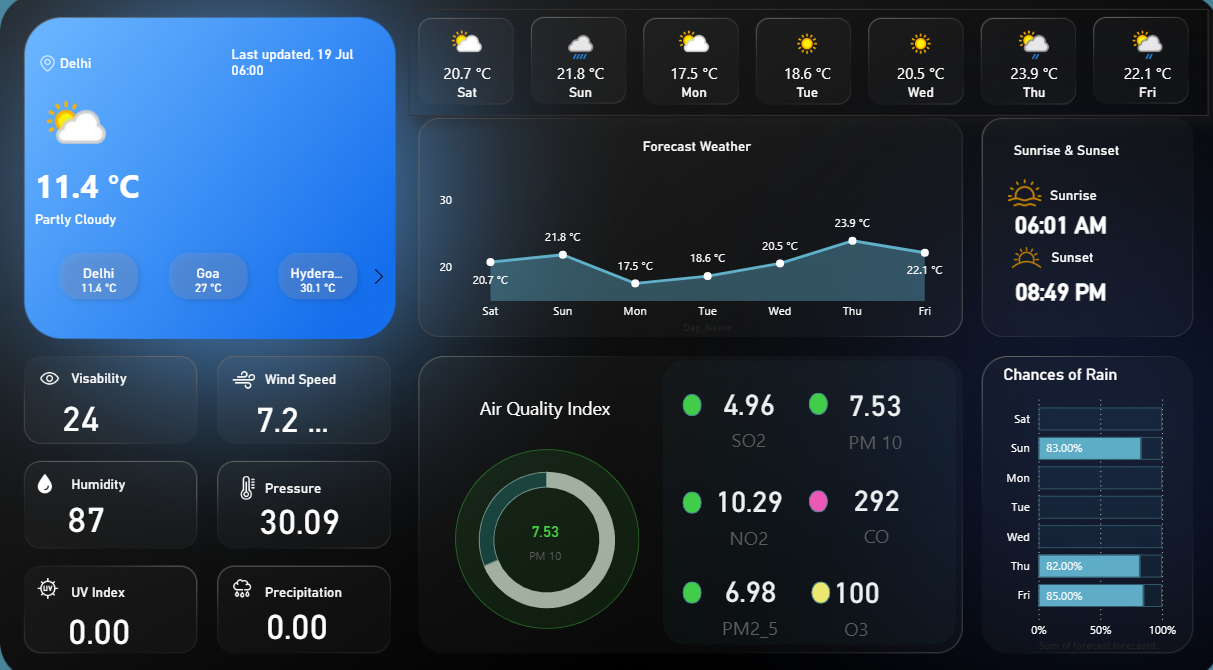

This screenshot's page, from the dashboard's own definition file:
{"tool":"powerbi","page":{"name":"Page 1","canvas":[1280,720],"ordinal":0},"visuals":[{"type":"donutChart","fields":{"Y":["Sum(Measure.current.air_quality.pm10)","Measure.left_valuePM10"]},"box":[452.1,478.4,243.1,188.9],"z":0},{"type":"shape","box":[476.8,476.8,193.5,188.9],"z":1000},{"type":"advancedSlicerVisual","fields":{"Values":["City.location.name"]},"box":[24.5,254,389,83.4],"z":2000},{"type":"card","fields":{"Values":["Sum(current.current.air_quality.pm10)"]},"box":[851.5,393.2,134.7,100.6],"z":3000},{"type":"shape","box":[36.2,174.7,127.3,49.9],"z":4000},{"type":"shape","box":[36.2,215.9,279.5,38.7],"z":5000},{"type":"shape","box":[62.4,52.4,127.3,38.7],"z":6000},{"type":"shape","box":[243.3,52.4,136,38.7],"z":7000},{"type":"image","box":[36.2,52.4,26.2,41.2],"z":8000},{"type":"cardVisual","fields":{"Data":["Min(current.current.condition.icon)"]},"box":[24.8,85.1,102.2,83.6],"z":9000},{"type":"image","box":[23.9,386.5,56.7,32.8],"z":10000},{"type":"shape","box":[74.6,389.5,135.8,26.9],"z":11000},{"type":"shape","box":[277.5,391,101.5,26.9],"z":12000},{"type":"shape","box":[277.5,501.4,101.5,34.3],"z":13000},{"type":"shape","box":[277.5,613.3,101.5,26.9],"z":14000},{"type":"shape","box":[74.6,501.4,101.5,26.9],"z":15000},{"type":"shape","box":[74.6,613.3,101.5,26.9],"z":16000},{"type":"image","box":[31.3,492.4,31.3,43.3],"z":17000},{"type":"image","box":[16.4,607.3,65.7,32.8],"z":18000},{"type":"image","box":[243.2,501.4,34.3,34.3],"z":19000},{"type":"image","box":[238.8,386.5,34.3,35.8],"z":20000},{"type":"image","box":[232.8,607.3,44.8,32.8],"z":21000},{"type":"card","fields":{"Values":["Sum(current.current.precip_in)"]},"box":[259.6,623.7,104.5,73.1],"z":22000},{"type":"card","fields":{"Values":["Sum(current.current.pressure_in)"]},"box":[240.2,519.3,149.2,62.7],"z":23000},{"type":"card","fields":{"Values":["Sum(current.current.humidity)"]},"box":[35.8,519.3,110.4,58.2],"z":24000},{"type":"card","fields":{"Values":["Sum(current.current.uv)"]},"box":[49.2,635.7,108.9,61.2],"z":25000},{"type":"card","fields":{"Values":["LastUpdated.Wind_speed"]},"box":[255.2,416.3,101.5,55.2],"z":26000},{"type":"card","fields":{"Values":["Sum(current.current.vis_km)"]},"box":[44.8,411.8,80.6,62.7],"z":27000},{"type":"advancedSlicerVisual","fields":{"Values":["forecast day.Day_Name"]},"box":[428.3,15.7,839.4,111.8],"z":28000},{"type":"areaChart","title":"Forecast Weather","fields":{"Category":["forecast day.Day_Name"],"Y":["Sum(forecast day.forecast.forecastday.day.avgtemp_c)"]},"box":[456.5,150.4,549.6,210.3],"z":29000},{"type":"shape","box":[1101.8,197.5,136.2,27],"z":30000},{"type":"card","fields":{"Values":["Min(forecast day.Sunrise_date)"]},"box":[1051.5,216,122.7,50.3],"z":31000},{"type":"image","box":[1051.5,250.3,50.3,51.5],"z":32000},{"type":"card","fields":{"Values":["Min(forecast day.Sunset_date)"]},"box":[1051.5,287.1,122.7,50.3],"z":33000},{"type":"shape","box":[1103.1,262.6,136.2,27],"z":34000},{"type":"shape","box":[1063.8,150.9,136.2,27],"z":35000},{"type":"image","box":[1047.9,186.5,54,45.4],"z":36000},{"type":"hundredPercentStackedBarChart","title":"Chances of Rain","fields":{"Category":["forecast day.Day_Name"],"Y":["Sum(forecast day.forecast.forecastday.day.daily_chance_of_rain)","current.left_value_rain"]},"box":[1047.7,389.3,191.6,305.6],"z":37000},{"type":"textbox","box":[498.5,411.8,147.1,44.9],"z":38000},{"type":"card","fields":{"Values":["Sum(current.current.air_quality.co)"]},"box":[853,487.7,134.7,109.9],"z":39000},{"type":"card","fields":{"Values":["Sum(current.current.air_quality.o3)"]},"box":[831.4,589.8,134.7,99.1],"z":40000},{"type":"card","fields":{"Values":["Sum(current.current.air_quality.so2)"]},"box":[718.3,390.1,134.7,105.3],"z":41000},{"type":"card","fields":{"Values":["Sum(current.current.air_quality.no2)"]},"box":[718.3,492.3,134.7,105.3],"z":42000},{"type":"card","fields":{"Values":["Sum(current.current.air_quality.pm2_5)"]},"box":[719.9,588.3,134.7,102.2],"z":43000},{"type":"shape","box":[716.8,521.7,20.1,23.2],"z":44000},{"type":"shape","box":[716.8,616.2,20.1,23.2],"z":45000},{"type":"shape","box":[848.4,418,20.1,23.2],"z":46000},{"type":"shape","box":[848.4,520.2,20.1,23.2],"z":47000},{"type":"shape","box":[851.5,616.2,20.1,23.2],"z":48000},{"type":"shape","box":[716.8,419.5,20.1,23.2],"z":49000},{"type":"card","fields":{"Values":["Sum(current.current.air_quality.pm10)"]},"box":[504.7,520.2,134.7,105.3],"z":50000},{"type":"shape","box":[695.1,383.9,308.1,298.8],"z":51000}]}

Visuals, with their boxes in screenshot pixels (x1, y1, x2, y2), scaled from the page's 1280x720 canvas onto the 1213x670 screenshot:
donutChart - Sum(Measure.current.air_quality.pm10) x Measure.left_valuePM10: bbox=(428, 445, 659, 621)
shape: bbox=(452, 444, 635, 619)
advancedSlicerVisual - City.location.name: bbox=(23, 236, 392, 314)
card - Sum(current.current.air_quality.pm10): bbox=(807, 366, 935, 460)
shape: bbox=(34, 163, 155, 209)
shape: bbox=(34, 201, 299, 237)
shape: bbox=(59, 49, 180, 85)
shape: bbox=(231, 49, 359, 85)
image: bbox=(34, 49, 59, 87)
cardVisual - Min(current.current.condition.icon): bbox=(24, 79, 120, 157)
image: bbox=(23, 360, 76, 390)
shape: bbox=(71, 362, 199, 387)
shape: bbox=(263, 364, 359, 389)
shape: bbox=(263, 467, 359, 498)
shape: bbox=(263, 571, 359, 596)
shape: bbox=(71, 467, 167, 492)
shape: bbox=(71, 571, 167, 596)
image: bbox=(30, 458, 59, 498)
image: bbox=(16, 565, 78, 596)
image: bbox=(230, 467, 263, 498)
image: bbox=(226, 360, 259, 393)
image: bbox=(221, 565, 263, 596)
card - Sum(current.current.precip_in): bbox=(246, 580, 345, 648)
card - Sum(current.current.pressure_in): bbox=(228, 483, 369, 542)
card - Sum(current.current.humidity): bbox=(34, 483, 139, 537)
card - Sum(current.current.uv): bbox=(47, 592, 150, 649)
card - LastUpdated.Wind_speed: bbox=(242, 387, 338, 439)
card - Sum(current.current.vis_km): bbox=(42, 383, 119, 442)
advancedSlicerVisual - forecast day.Day_Name: bbox=(406, 15, 1201, 119)
"Forecast Weather" areaChart: bbox=(433, 140, 953, 336)
shape: bbox=(1044, 184, 1173, 209)
card - Min(forecast day.Sunrise_date): bbox=(996, 201, 1113, 248)
image: bbox=(996, 233, 1044, 281)
card - Min(forecast day.Sunset_date): bbox=(996, 267, 1113, 314)
shape: bbox=(1045, 244, 1174, 269)
shape: bbox=(1008, 140, 1137, 166)
image: bbox=(993, 174, 1044, 216)
"Chances of Rain" hundredPercentStackedBarChart: bbox=(993, 362, 1174, 647)
textbox: bbox=(472, 383, 612, 425)
card - Sum(current.current.air_quality.co): bbox=(808, 454, 936, 556)
card - Sum(current.current.air_quality.o3): bbox=(788, 549, 916, 641)
card - Sum(current.current.air_quality.so2): bbox=(681, 363, 808, 461)
card - Sum(current.current.air_quality.no2): bbox=(681, 458, 808, 556)
card - Sum(current.current.air_quality.pm2_5): bbox=(682, 547, 810, 643)
shape: bbox=(679, 485, 698, 507)
shape: bbox=(679, 573, 698, 595)
shape: bbox=(804, 389, 823, 411)
shape: bbox=(804, 484, 823, 506)
shape: bbox=(807, 573, 826, 595)
shape: bbox=(679, 390, 698, 412)
card - Sum(current.current.air_quality.pm10): bbox=(478, 484, 606, 582)
shape: bbox=(659, 357, 951, 635)
